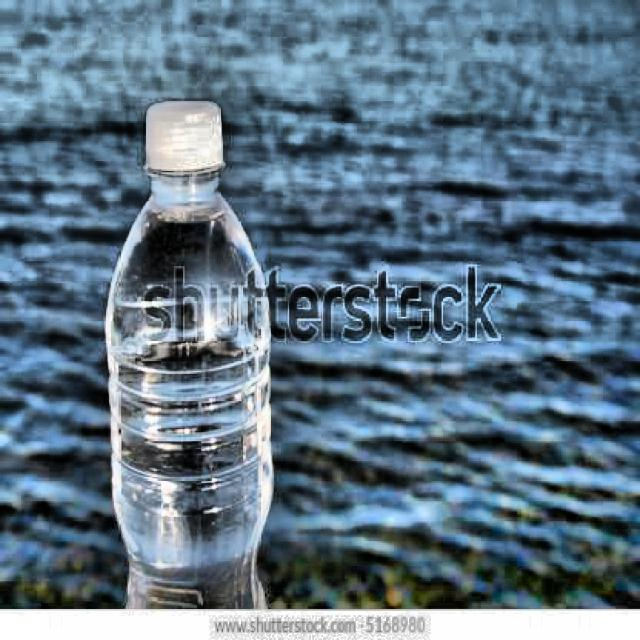Bottles: (59, 88, 317, 607)
